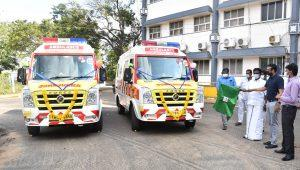ER: (114, 40, 202, 130), (22, 37, 102, 134)
